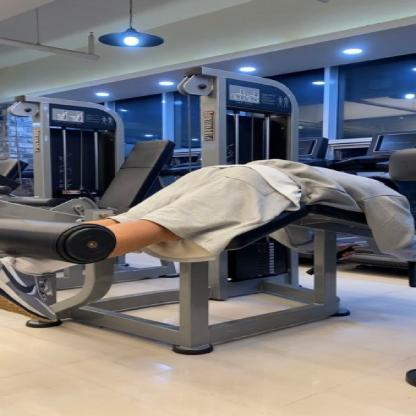reg curl machine: (2, 65, 416, 356)
